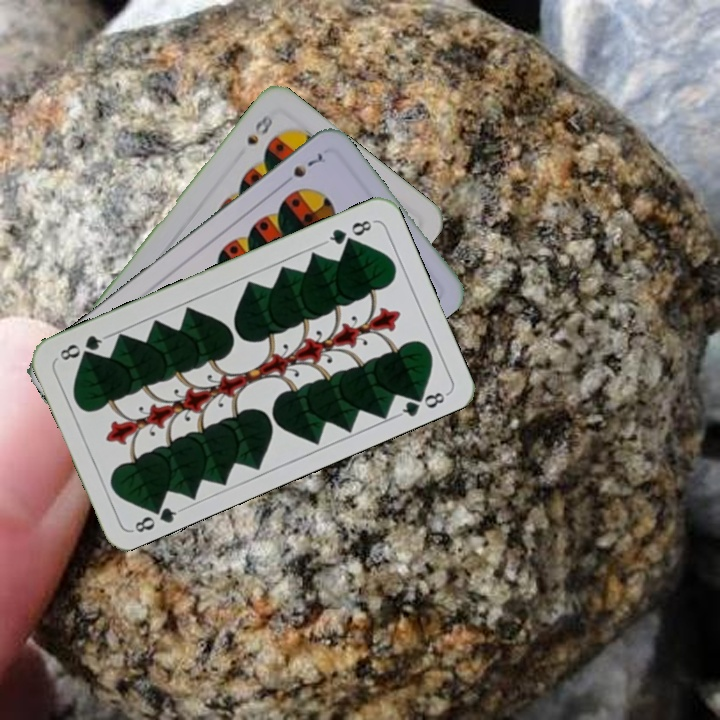G8: (129, 498, 185, 536), (321, 216, 375, 247)
S7: (277, 148, 325, 189)
S8: (242, 110, 276, 148)
